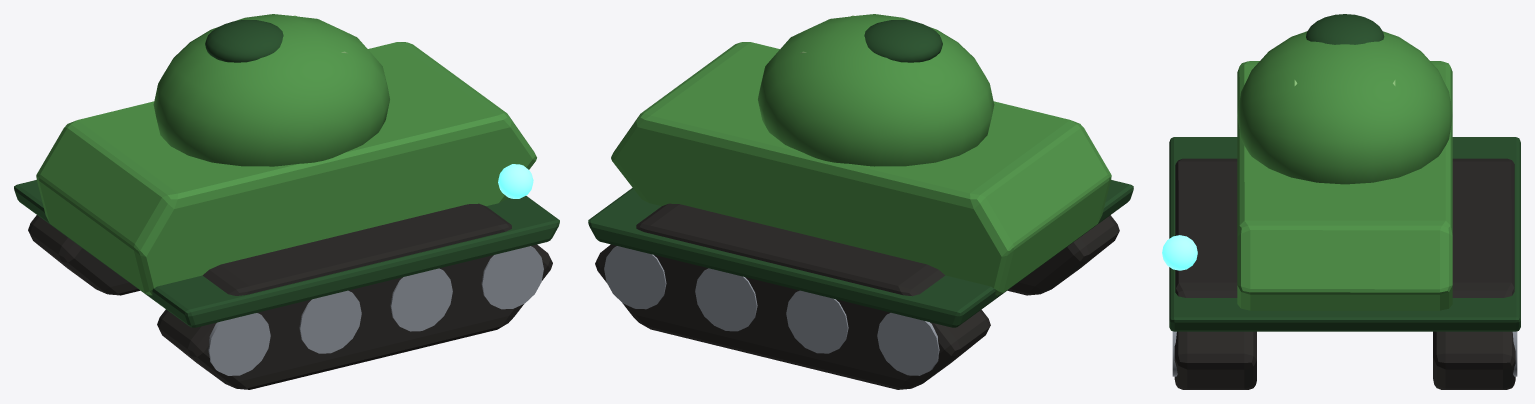
File: tank_r.glb
The picture shows the model from 3 angles, left to right: view 1: azimuth 30°, elevation 25°; view 2: azimuth 150°, elevation 25°; view 3: azimuth 270°, elevation 25°; orthographic projection.
Visible parts, largest first — view 1: hull, turret, track, skirt, wheel, wheel.002, wheel.003, wheel.001, track.001, hatch, lamp; view 2: hull, turret, track.001, skirt, wheel.004, wheel.005, wheel.006, wheel.007, track, hatch; view 3: hull, turret, skirt, track.001, track, hatch, lamp.
Part boxes in pixels (x1,y1,x2,y2): hull: (36,42,536,295); turret: (153,14,389,166); track: (157,203,552,389); skirt: (14,180,559,327); wheel: (208,313,270,375); wheel.002: (390,268,452,331); wheel.003: (481,246,543,309); wheel.001: (299,290,361,353); track.001: (28,215,139,295); hatch: (205,20,283,62); lamp: (498,164,533,198); hull: (611,42,1111,295); turret: (758,14,994,166); track.001: (595,203,990,389); skirt: (588,180,1133,327); wheel.004: (877,313,939,375); wheel.005: (786,290,848,353); wheel.006: (695,268,757,331); wheel.007: (604,246,666,309); track: (1007,215,1119,295); hatch: (864,20,942,62); hull: (1237,61,1452,310); turret: (1237,31,1452,184); skirt: (1169,137,1520,331); track.001: (1433,158,1515,389); track: (1174,158,1256,389); hatch: (1306,14,1384,44); lamp: (1162,235,1197,270).
Size of the model in its own units: 12.93 by 8.7 by 10.
